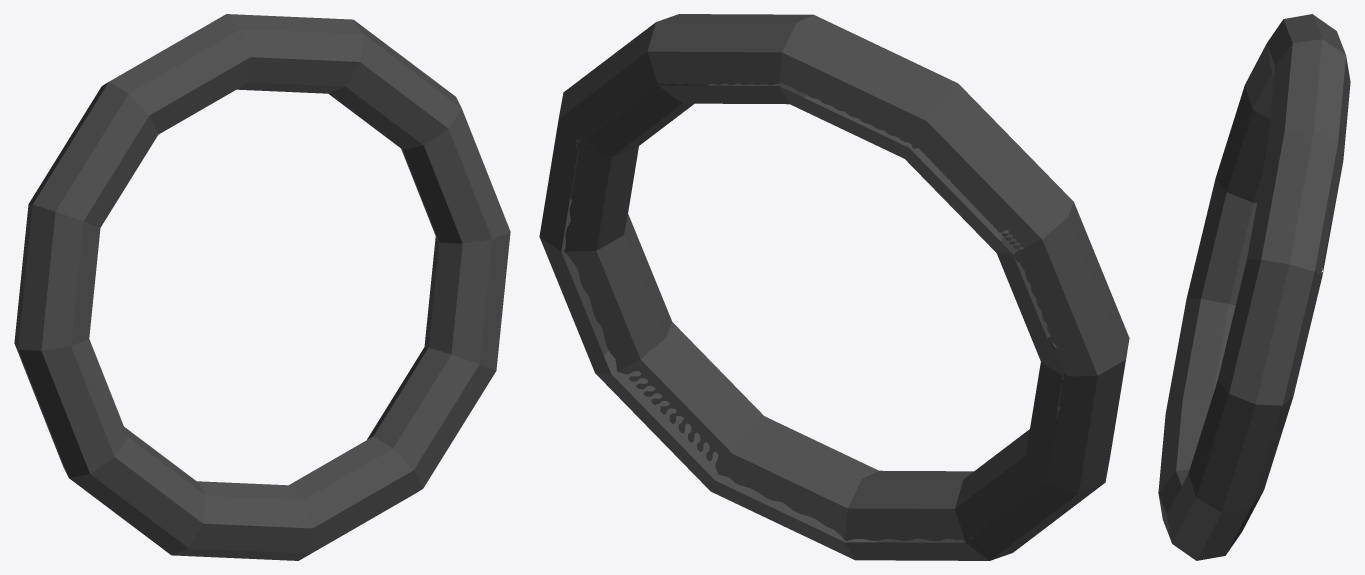
File: boat_wheel.fbx
3 renders of one model, left to right at view 1: azimuth 30°, elevation 25°; view 2: azimuth 150°, elevation 25°; view 3: azimuth 270°, elevation 25°, orthographic. The views are drawn at different scales.
Parts seen in each view (by area): view 1: boat_steeringWheel; view 2: boat_steeringWheel; view 3: boat_steeringWheel.
Part boxes in pixels (left/top/right/bottom): boat_steeringWheel: left=14, top=14, right=510, bottom=560; boat_steeringWheel: left=539, top=14, right=1129, bottom=560; boat_steeringWheel: left=1158, top=14, right=1350, bottom=560.
Bounding box in the file's own units: 23.6 × 22.91 × 8.07.
Materials: 1 (1 with a texture image).
